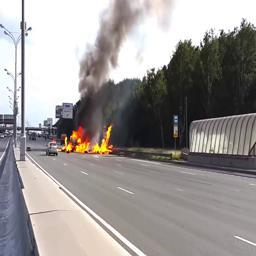fire: (60, 126, 113, 155)
